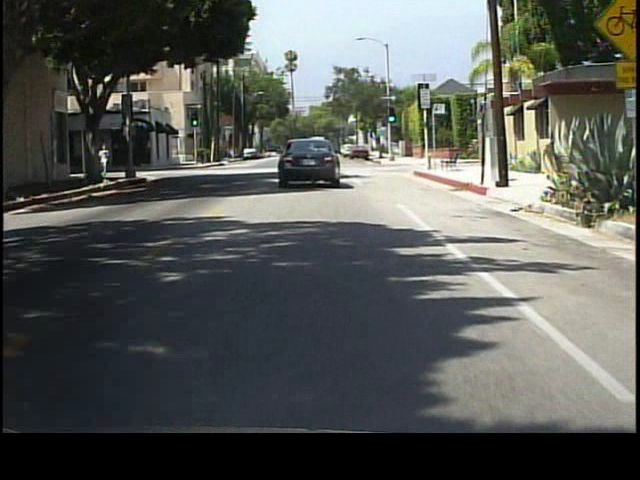person: (101, 141, 113, 179)
